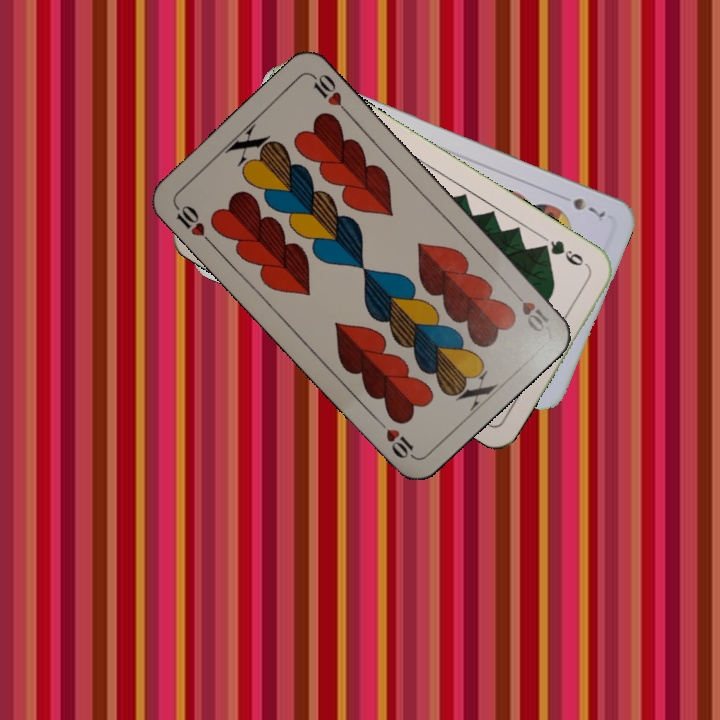G9: (535, 236, 592, 272)
H10: (506, 285, 552, 335), (171, 201, 216, 248)
S7: (569, 194, 608, 221)
